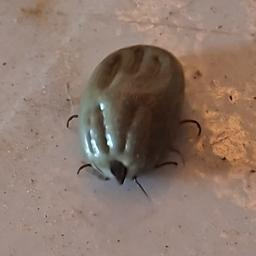Rhipicephalus sanguineus: (64, 43, 202, 202)
